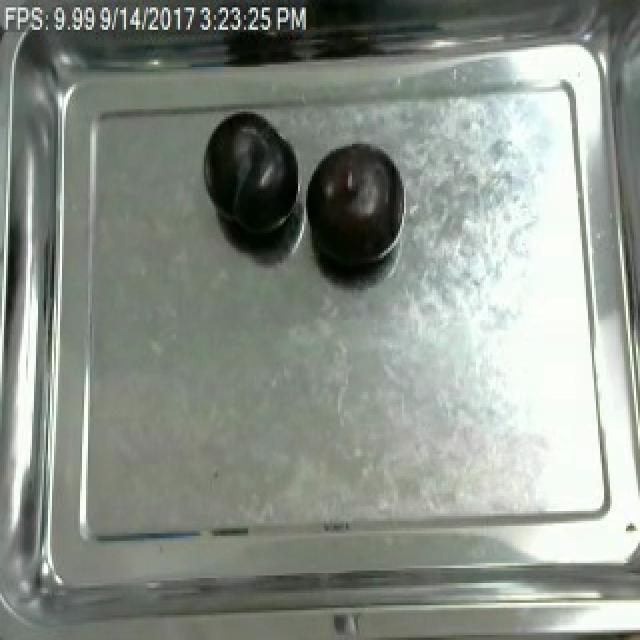Fruit: (304, 137, 404, 280), (200, 109, 302, 246)
